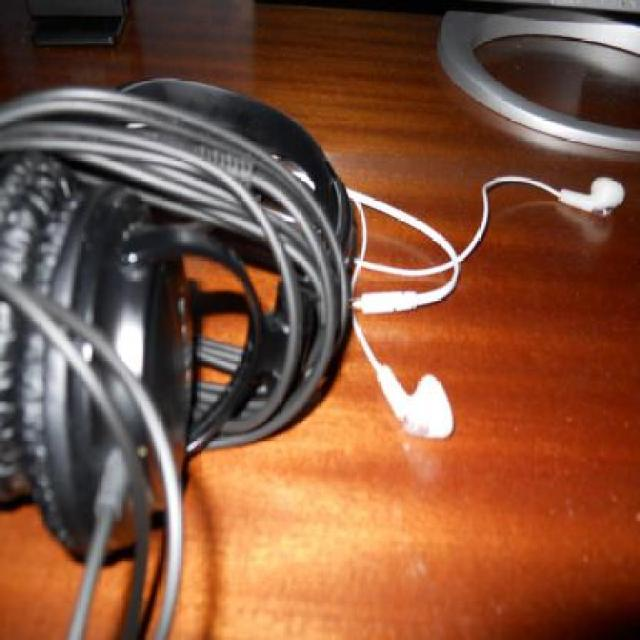earphone: (3, 67, 234, 575)
